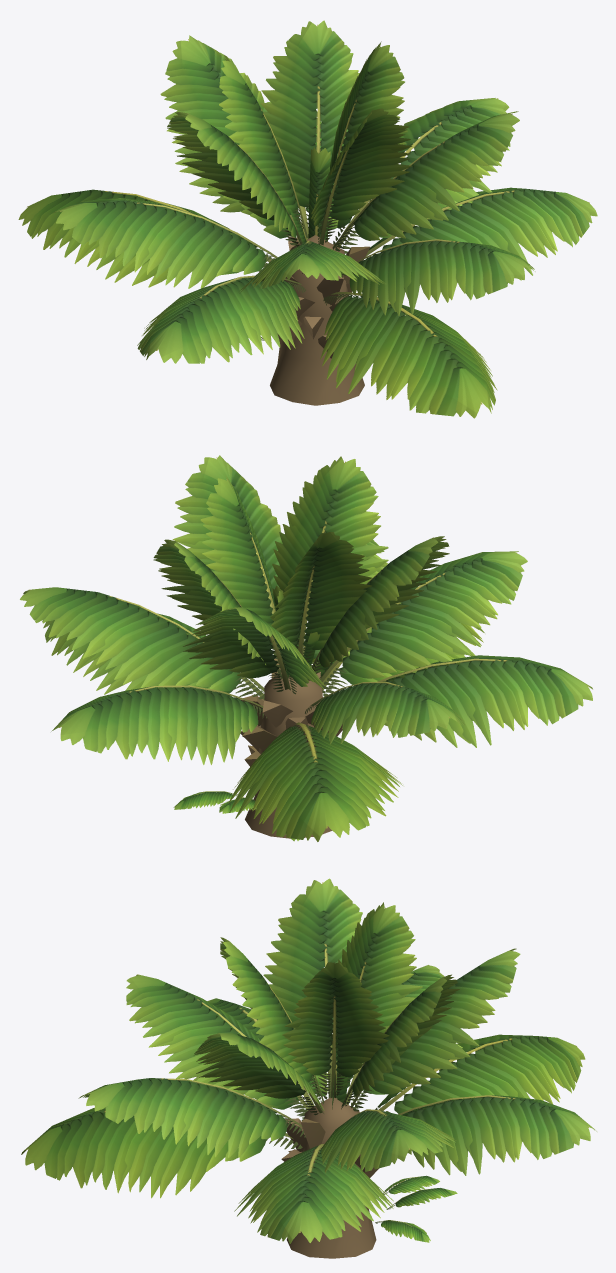
The model's file is sawit_2.glb.
3 views of the same model, one above another, from view 1: azimuth 30°, elevation 25°; view 2: azimuth 150°, elevation 25°; view 3: azimuth 270°, elevation 25° (orthographic). The views are drawn at different scales.
Parts seen in each view (by area): view 1: sawit_2_body; view 2: sawit_2_body; view 3: sawit_2_body.
Boxes of the visible parts, box(x1,y1,x2,y2) form: sawit_2_body: box(18, 20, 597, 418); sawit_2_body: box(20, 455, 592, 841); sawit_2_body: box(21, 878, 596, 1258).
Bounding box in the file's own units: 3.65 × 2.28 × 3.86.
Materials: 2 (1 with a texture image).
